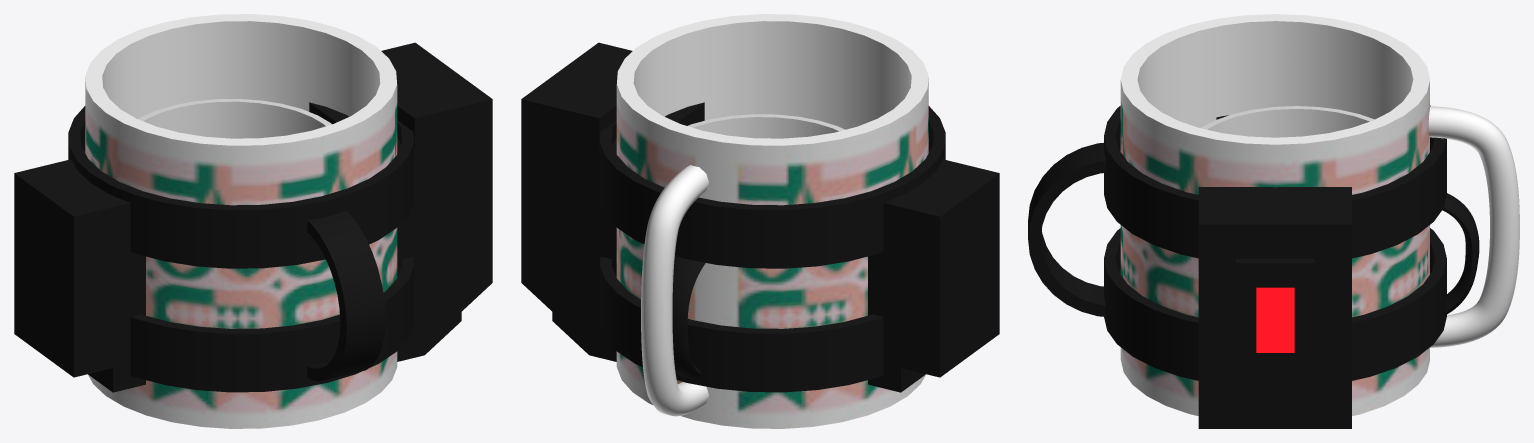
The model's file is transformMug.gltf.
3 renders of one model, left to right at view 1: azimuth 30°, elevation 25°; view 2: azimuth 150°, elevation 25°; view 3: azimuth 270°, elevation 25°, orthographic.
Visible parts, largest first — view 1: opt1, opt2; view 2: opt1, opt2; view 3: opt1, opt2.
Part boxes in pixels (x1=…): opt1: x1=14, y1=14, x2=492, y2=428; opt2: x1=88, y1=99, x2=461, y2=392; opt1: x1=521, y1=14, x2=999, y2=428; opt2: x1=552, y1=102, x2=925, y2=392; opt1: x1=1028, y1=14, x2=1519, y2=415; opt2: x1=1198, y1=106, x2=1479, y2=428.
Size of the model in its own units: 0.1392 by 0.0876 by 0.1389.
Materials: 5 (1 with a texture image).
